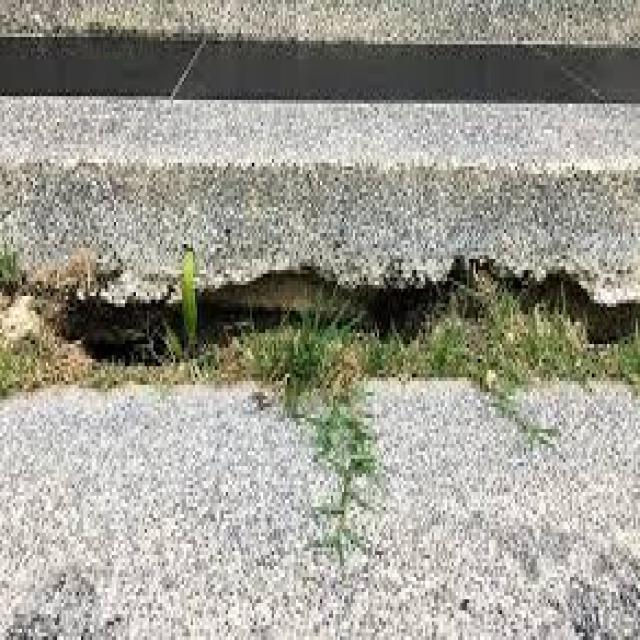hole: (33, 207, 640, 418)
